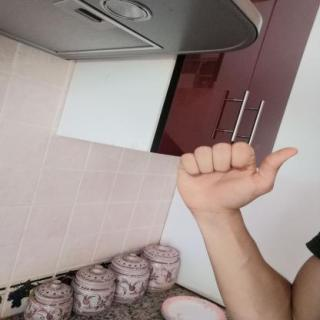DAD: (168, 136, 306, 217)
